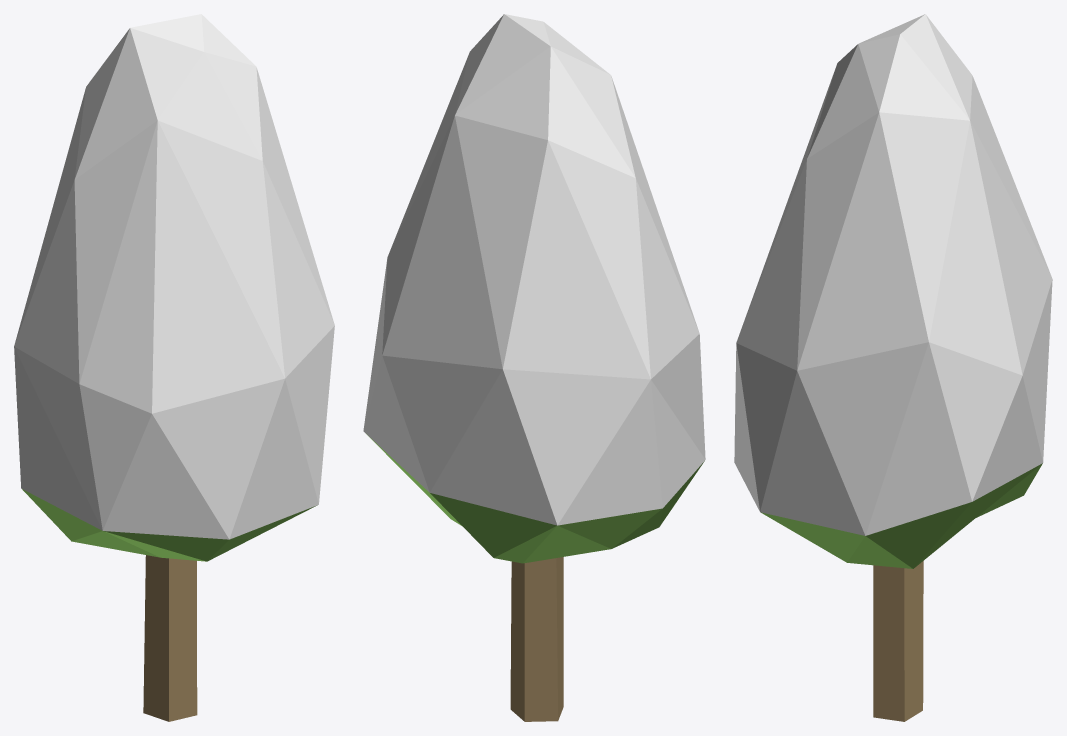
Rendered from Thuja_Tree_s_Snow_01.fbx.
3 views of the same model, side by side, from view 1: azimuth 30°, elevation 25°; view 2: azimuth 150°, elevation 25°; view 3: azimuth 270°, elevation 25° (orthographic).
Visible parts, largest first — view 1: Thuja_Tree_s_Snow_01; view 2: Thuja_Tree_s_Snow_01; view 3: Thuja_Tree_s_Snow_01.
Boxes of the visible parts, left/top/right/bottom form: Thuja_Tree_s_Snow_01: left=14, top=14, right=334, bottom=721; Thuja_Tree_s_Snow_01: left=363, top=14, right=705, bottom=721; Thuja_Tree_s_Snow_01: left=734, top=14, right=1052, bottom=721.
Size of the model in its own units: 96.9 by 233 by 97.04.
